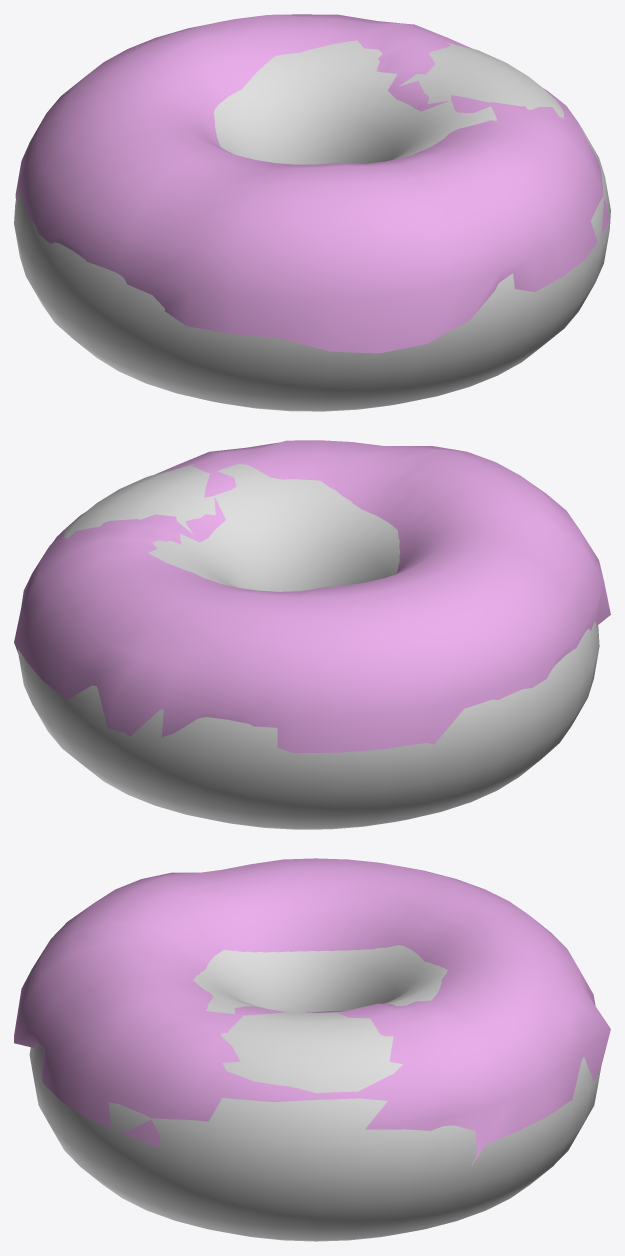
File: newDonut.glb
The picture shows the model from 3 angles, top to bottom: view 1: azimuth 30°, elevation 25°; view 2: azimuth 150°, elevation 25°; view 3: azimuth 270°, elevation 25°; orthographic projection. The views are drawn at different scales.
Parts seen in each view (by area): view 1: Torus.002, Torus.001; view 2: Torus.002, Torus.001; view 3: Torus.002, Torus.001.
Part boxes in pixels (box(x1,y1,x2,y2)): Torus.002: box(15, 14, 609, 353); Torus.001: box(14, 40, 610, 411); Torus.002: box(14, 440, 610, 753); Torus.001: box(18, 463, 599, 829); Torus.002: box(14, 858, 610, 1165); Torus.001: box(29, 945, 600, 1241).
Bounding box in the file's own units: 3.04 × 1.31 × 3.16.
